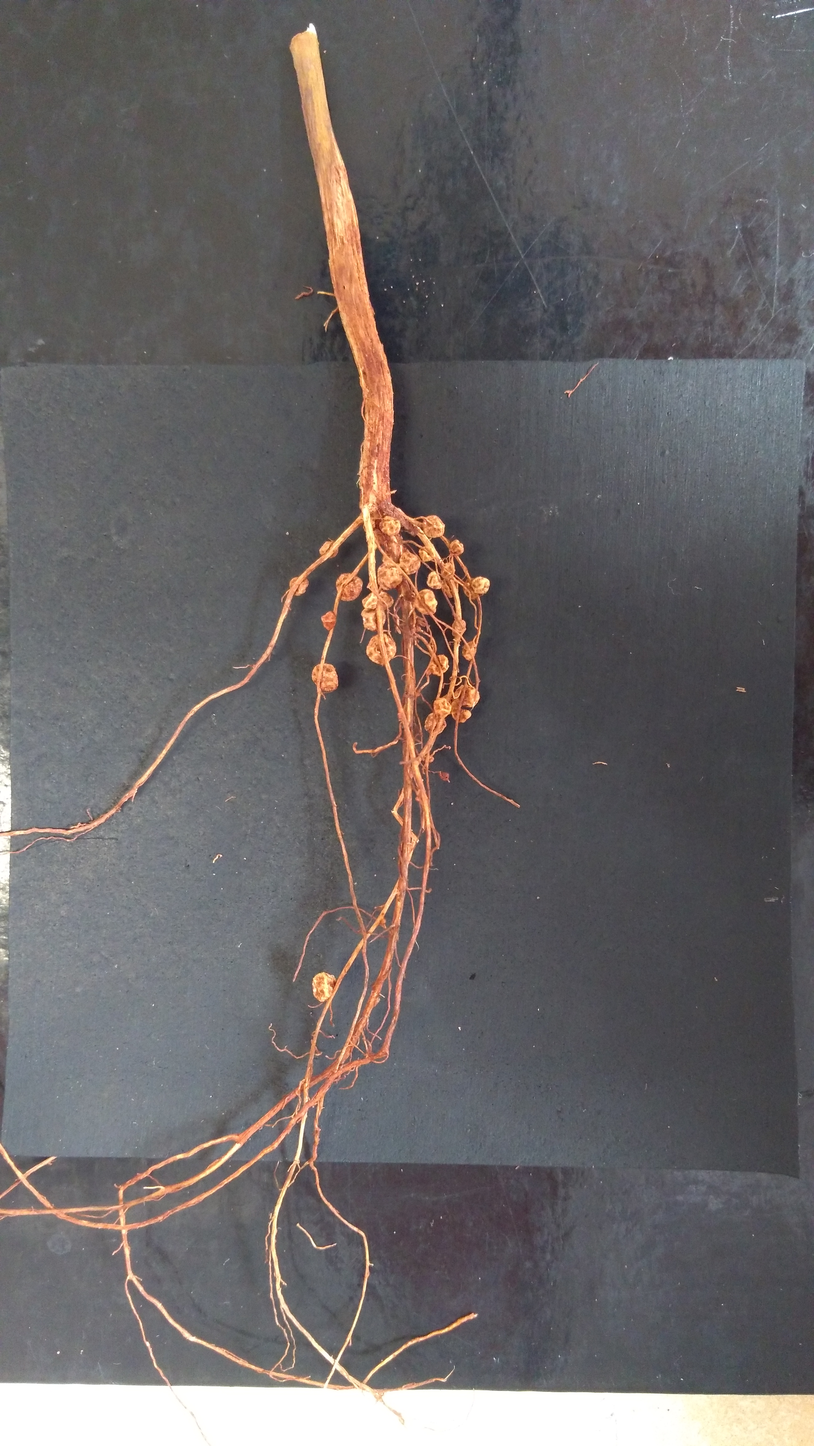nodule: (366, 633, 396, 665), (311, 663, 338, 692), (336, 573, 362, 601), (312, 972, 335, 1003), (378, 563, 403, 590), (414, 589, 437, 615), (361, 607, 385, 631), (362, 592, 394, 610), (454, 685, 480, 707), (451, 698, 471, 723), (423, 515, 445, 537), (425, 713, 446, 735), (400, 552, 421, 574), (379, 515, 400, 535), (430, 655, 449, 676), (289, 577, 309, 596), (433, 697, 451, 718), (463, 578, 479, 599), (442, 577, 458, 598), (472, 576, 490, 594), (319, 541, 337, 558), (462, 641, 477, 661), (321, 611, 336, 631), (409, 615, 426, 632), (451, 619, 466, 637), (426, 571, 441, 589), (419, 546, 435, 562), (441, 563, 455, 580), (372, 528, 385, 545), (449, 540, 464, 554), (363, 520, 376, 532), (439, 771, 449, 781), (427, 755, 434, 762)
